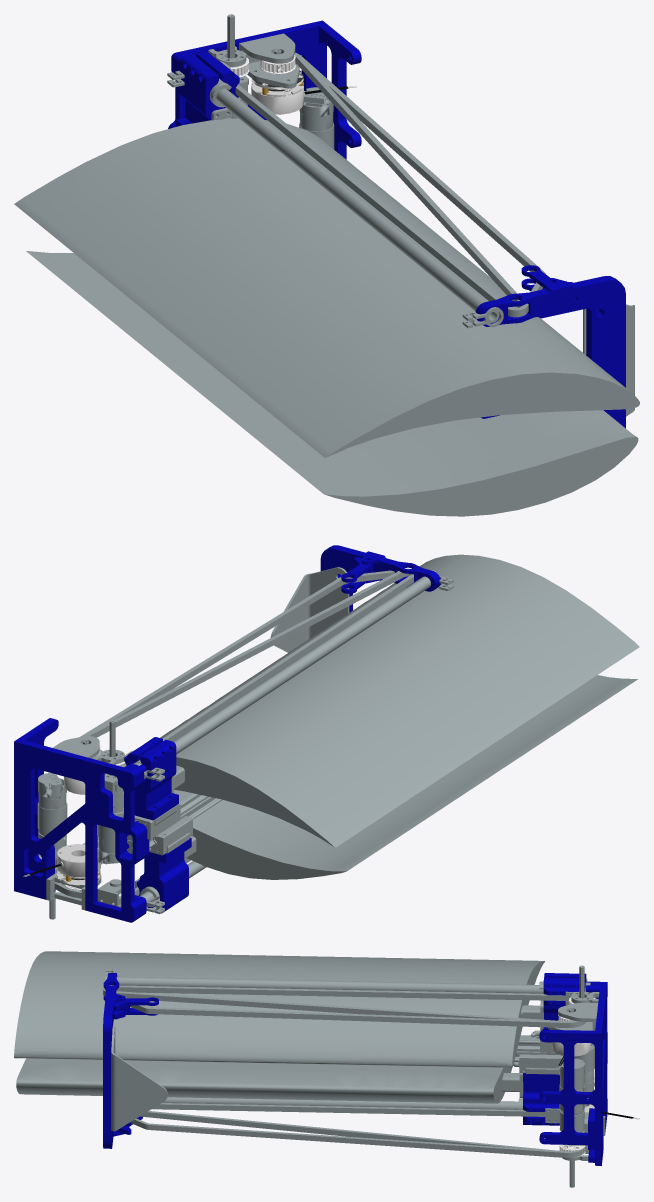
The model's file is wing.glb.
3 renders of one model, top to bottom at view 1: azimuth 30°, elevation 25°; view 2: azimuth 150°, elevation 25°; view 3: azimuth 270°, elevation 25°, orthographic. The views are drawn at different scales.
Parts seen in each view (by area): view 1: 2027-WING-210, 2027-WING-211, 2027-WING-216, 2027-WING-201, 2027-WING-228, 2027-WING-225, 2027-WING-205, 2027-WING-234, 2027-WING-304, 2025-FIN-1115, 2027-WING-152; view 2: 2027-WING-210, 2027-WING-211, 2027-WING-225, 2027-WING-216, 2027-WING-228, 2027-WING-304, 2027-WING-205, 2027-WING-152, 2027-WING-206, 2027-WING-201, 2027-WING-122 (×2), 2025-FIN-1115 (+3 smaller); view 3: 2027-WING-210, 2027-WING-211, 2027-WING-216, 2027-WING-217, 2027-WING-228 (×2), 2027-WING-225, 2027-WING-152, 2027-WING-201, 2027-WING-304, 2027-WING-206, 2027-WING-205, 2027-WING-122 (+4 smaller).
Part boxes in pixels (bbox=[...]): 2027-WING-210: bbox=[14, 118, 639, 457]; 2027-WING-211: bbox=[26, 251, 638, 516]; 2027-WING-216: bbox=[235, 52, 546, 317]; 2027-WING-201: bbox=[475, 276, 625, 428]; 2027-WING-228: bbox=[216, 88, 499, 322]; 2027-WING-225: bbox=[168, 20, 361, 159]; 2027-WING-205: bbox=[176, 51, 239, 126]; 2027-WING-234: bbox=[239, 33, 299, 88]; 2027-WING-304: bbox=[227, 14, 334, 149]; 2025-FIN-1115: bbox=[251, 70, 356, 114]; 2027-WING-152: bbox=[583, 304, 634, 416]; 2027-WING-210: bbox=[160, 554, 639, 847]; 2027-WING-211: bbox=[174, 675, 637, 879]; 2027-WING-225: bbox=[14, 718, 149, 922]; 2027-WING-216: bbox=[80, 568, 413, 773]; 2027-WING-228: bbox=[173, 576, 430, 754]; 2027-WING-304: bbox=[37, 720, 123, 919]; 2027-WING-205: bbox=[124, 737, 178, 820]; 2027-WING-152: bbox=[270, 567, 349, 652]; 2027-WING-206: bbox=[137, 838, 191, 913]; 2027-WING-201: bbox=[320, 545, 440, 612]; 2027-WING-122 (×2): bbox=[123, 802, 192, 855]; 2025-FIN-1115: bbox=[23, 844, 100, 885]; 2027-WING-210: bbox=[14, 951, 544, 1067]; 2027-WING-211: bbox=[16, 1058, 511, 1103]; 2027-WING-216: bbox=[103, 985, 596, 1027]; 2027-WING-217: bbox=[131, 1103, 587, 1157]; 2027-WING-228 (×2): bbox=[116, 976, 543, 1109]; 2027-WING-225: bbox=[539, 981, 607, 1165]; 2027-WING-152: bbox=[111, 1026, 167, 1131]; 2027-WING-201: bbox=[103, 973, 125, 1148]; 2027-WING-304: bbox=[559, 965, 594, 1187]; 2027-WING-206: bbox=[523, 1073, 559, 1125]; 2027-WING-205: bbox=[543, 973, 586, 1035]; 2027-WING-122: bbox=[513, 1054, 563, 1074].
Bounding box in the file's own units: 0.4641 × 0.305 × 0.902.
